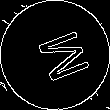M_W: (23, 24, 87, 86)
